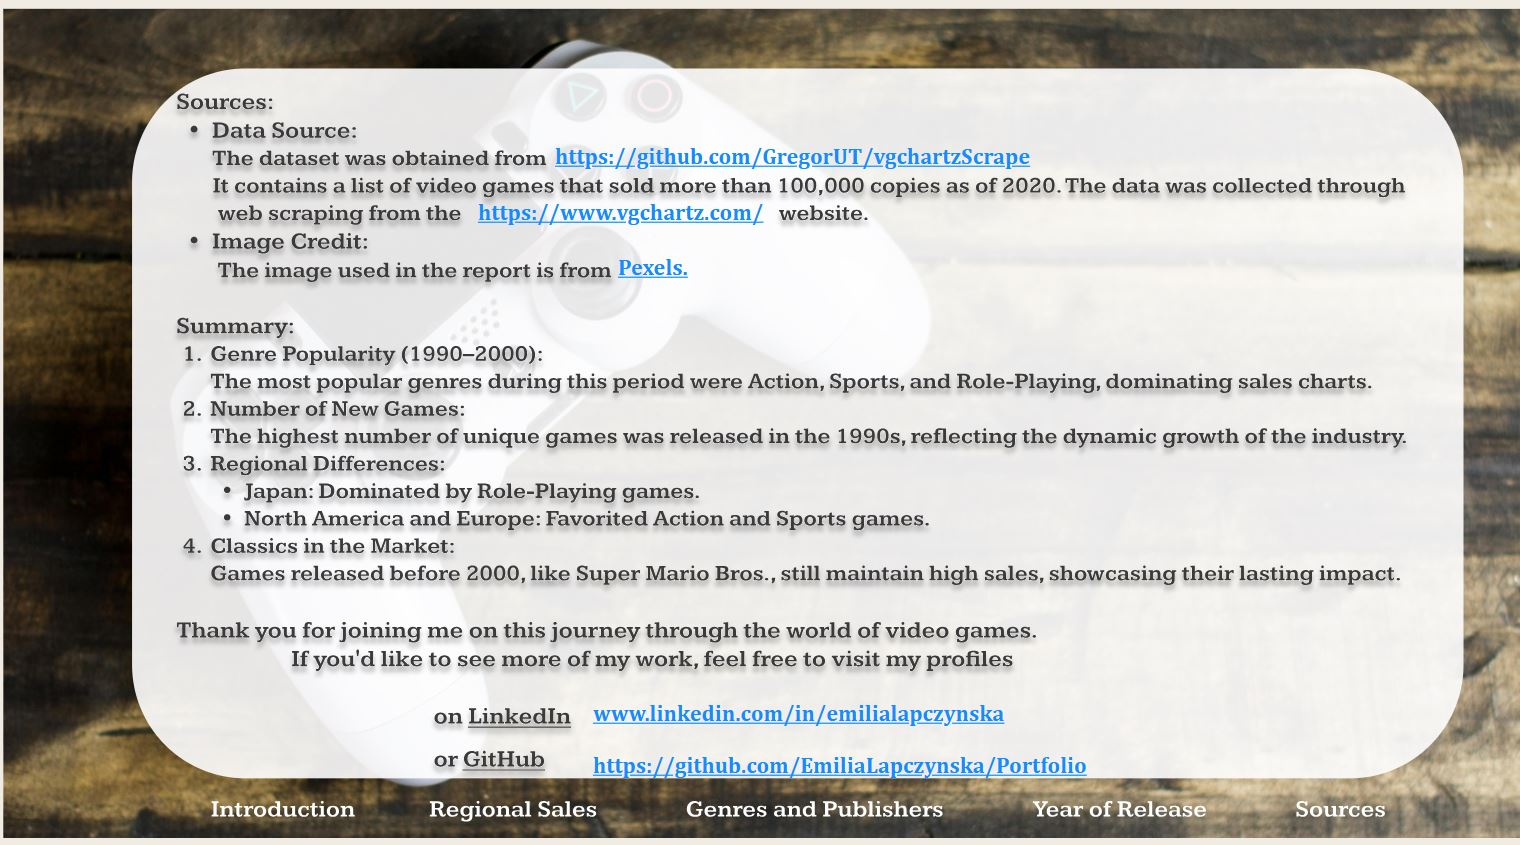

Layout of this report page (visuals, bound fields, positions):
{"tool":"powerbi","page":{"name":"Sources","canvas":[1280,720],"ordinal":4},"visuals":[{"type":"actionButton","box":[13.6,218.2,123.6,35.5],"z":0},{"type":"actionButton","box":[13.6,263.6,123.6,42.7],"z":1000},{"type":"actionButton","box":[13.6,310,137.3,34.5],"z":2000},{"type":"actionButton","box":[13.6,122.7,123.6,37.3],"z":3000},{"type":"actionButton","box":[11.8,169.1,123.6,37.3],"z":4000},{"type":"textbox","box":[224.8,159.4,893.4,41.6],"z":5000},{"type":"textbox","box":[280.7,517.5,781.6,40.4],"z":6000},{"type":"actionButton","box":[62.5,654.3,123.8,36.9],"z":7000},{"type":"actionButton","box":[363.3,653.3,67.8,36.7],"z":8000},{"type":"actionButton","box":[583.3,654.4,124.4,36.7],"z":9000},{"type":"actionButton","box":[862.2,654.4,91.1,35.6],"z":10000}]}

Visuals, with their boxes in screenshot pixels (x1, y1, x2, y2), scaled from the page's 1280x720 canvas onto the 1520x845 screenshot:
actionButton: select_region(16, 256, 163, 298)
actionButton: select_region(16, 309, 163, 359)
actionButton: select_region(16, 364, 179, 404)
actionButton: select_region(16, 144, 163, 188)
actionButton: select_region(14, 198, 161, 242)
textbox: select_region(267, 187, 1328, 236)
textbox: select_region(333, 607, 1261, 655)
actionButton: select_region(74, 768, 221, 811)
actionButton: select_region(431, 767, 512, 810)
actionButton: select_region(693, 768, 840, 811)
actionButton: select_region(1024, 768, 1132, 810)
